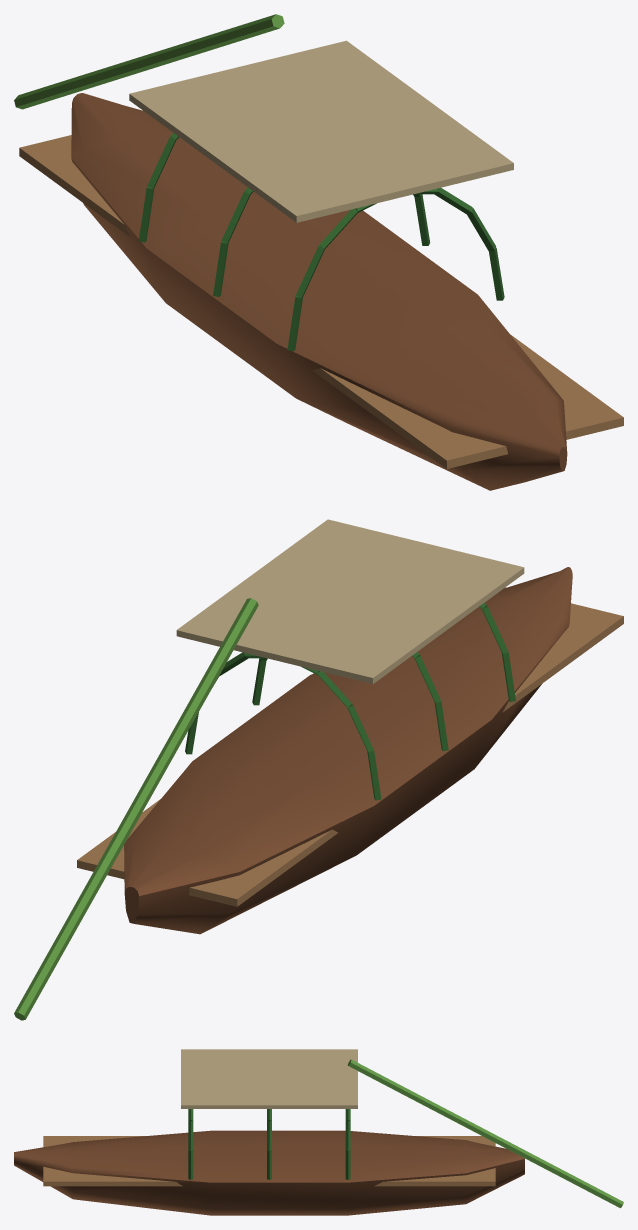
Rendered from boat.glb.
3 renders of one model, top to bottom at view 1: azimuth 30°, elevation 25°; view 2: azimuth 150°, elevation 25°; view 3: azimuth 270°, elevation 25°, orthographic. The views are drawn at different scales.
Parts seen in each view (by area): view 1: Boat; view 2: Boat; view 3: Boat.
Part boxes in pixels (x1=…): Boat: x1=14, y1=14, x2=623, y2=490; Boat: x1=14, y1=519, x2=623, y2=1020; Boat: x1=14, y1=1049, x2=623, y2=1215.
Bounding box in the file's own units: 1.35 × 1.76 × 6.21.
